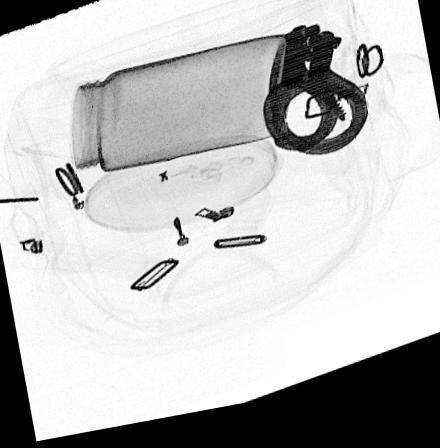HandCuffs: (263, 35, 371, 168)
